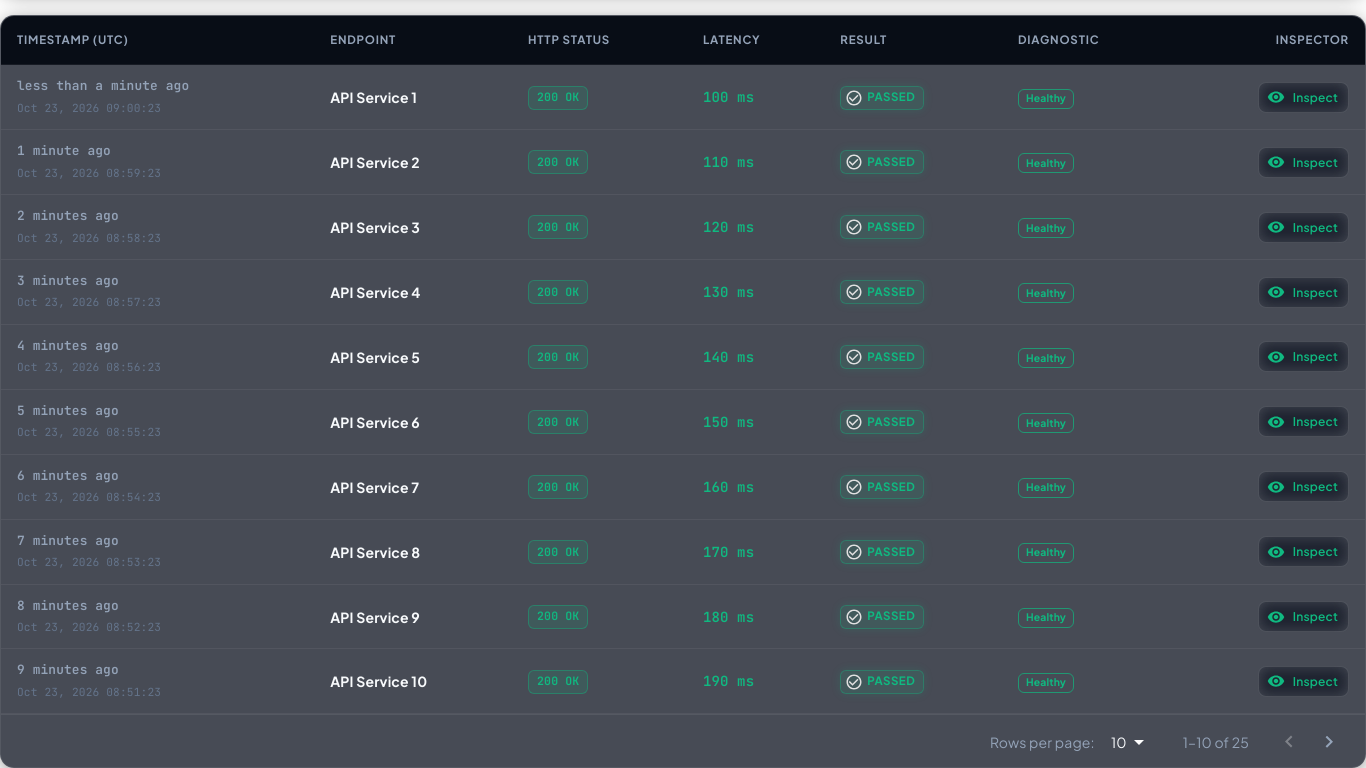
Pagination Controls and Behavior › ExecutionHistoryPage Pagination › resets page when status filter changes
(page scrolled)
Note: Go to page 2
Click the button titled "Go to next page" at [1329, 742], box [1309,722,1349,762]
(page scrolled)
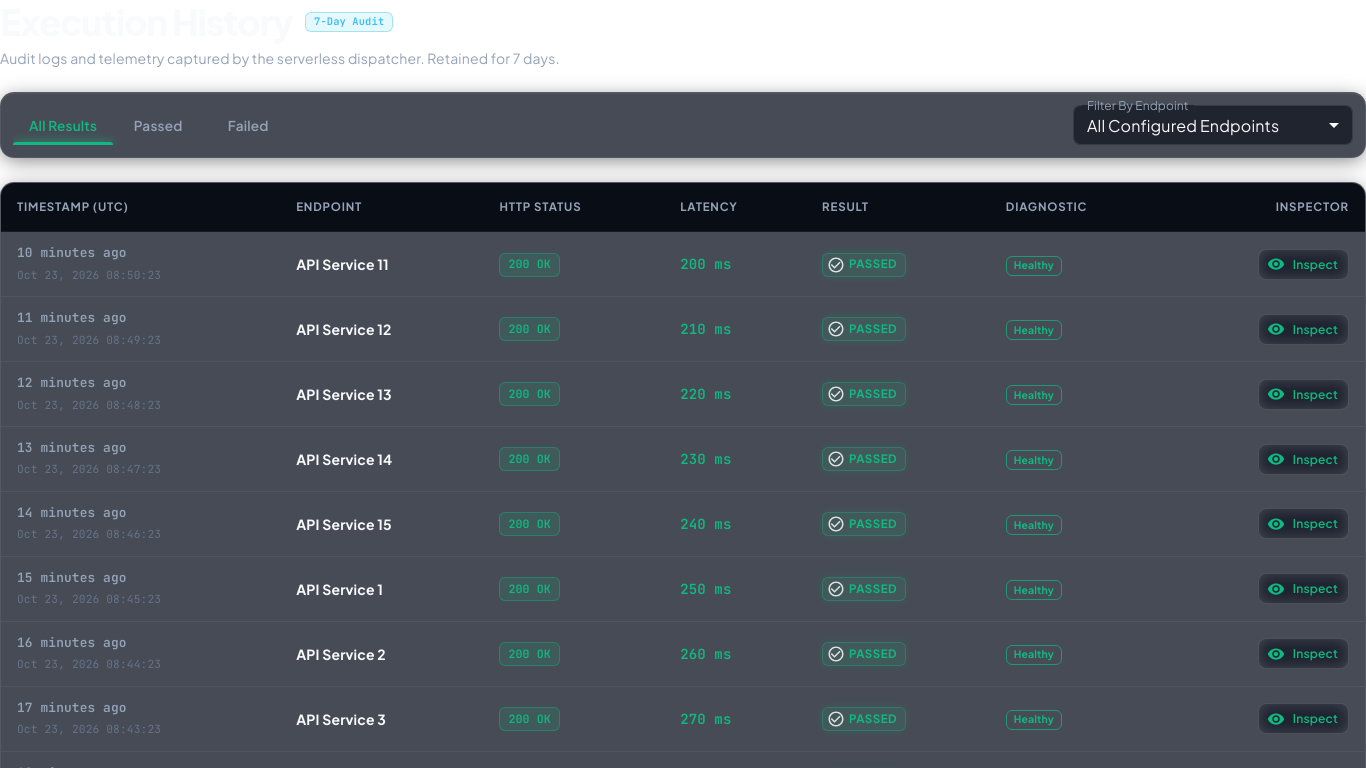
Note: Click "Passed" tab
Click the tab "Passed" at [158, 126], box [113,106,203,146]
(page scrolled)
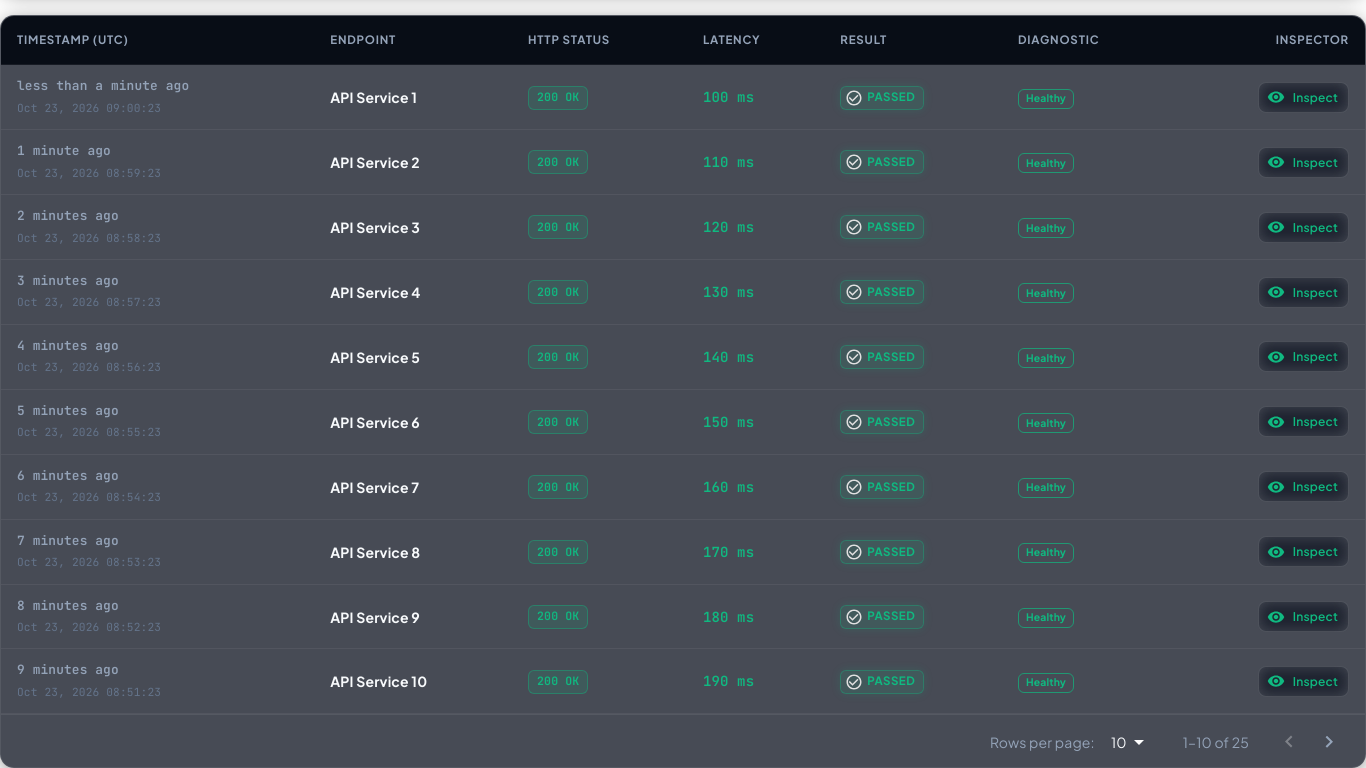
Expected: the text "1–10 of 25" is shown, [1183,732,1249,752]
